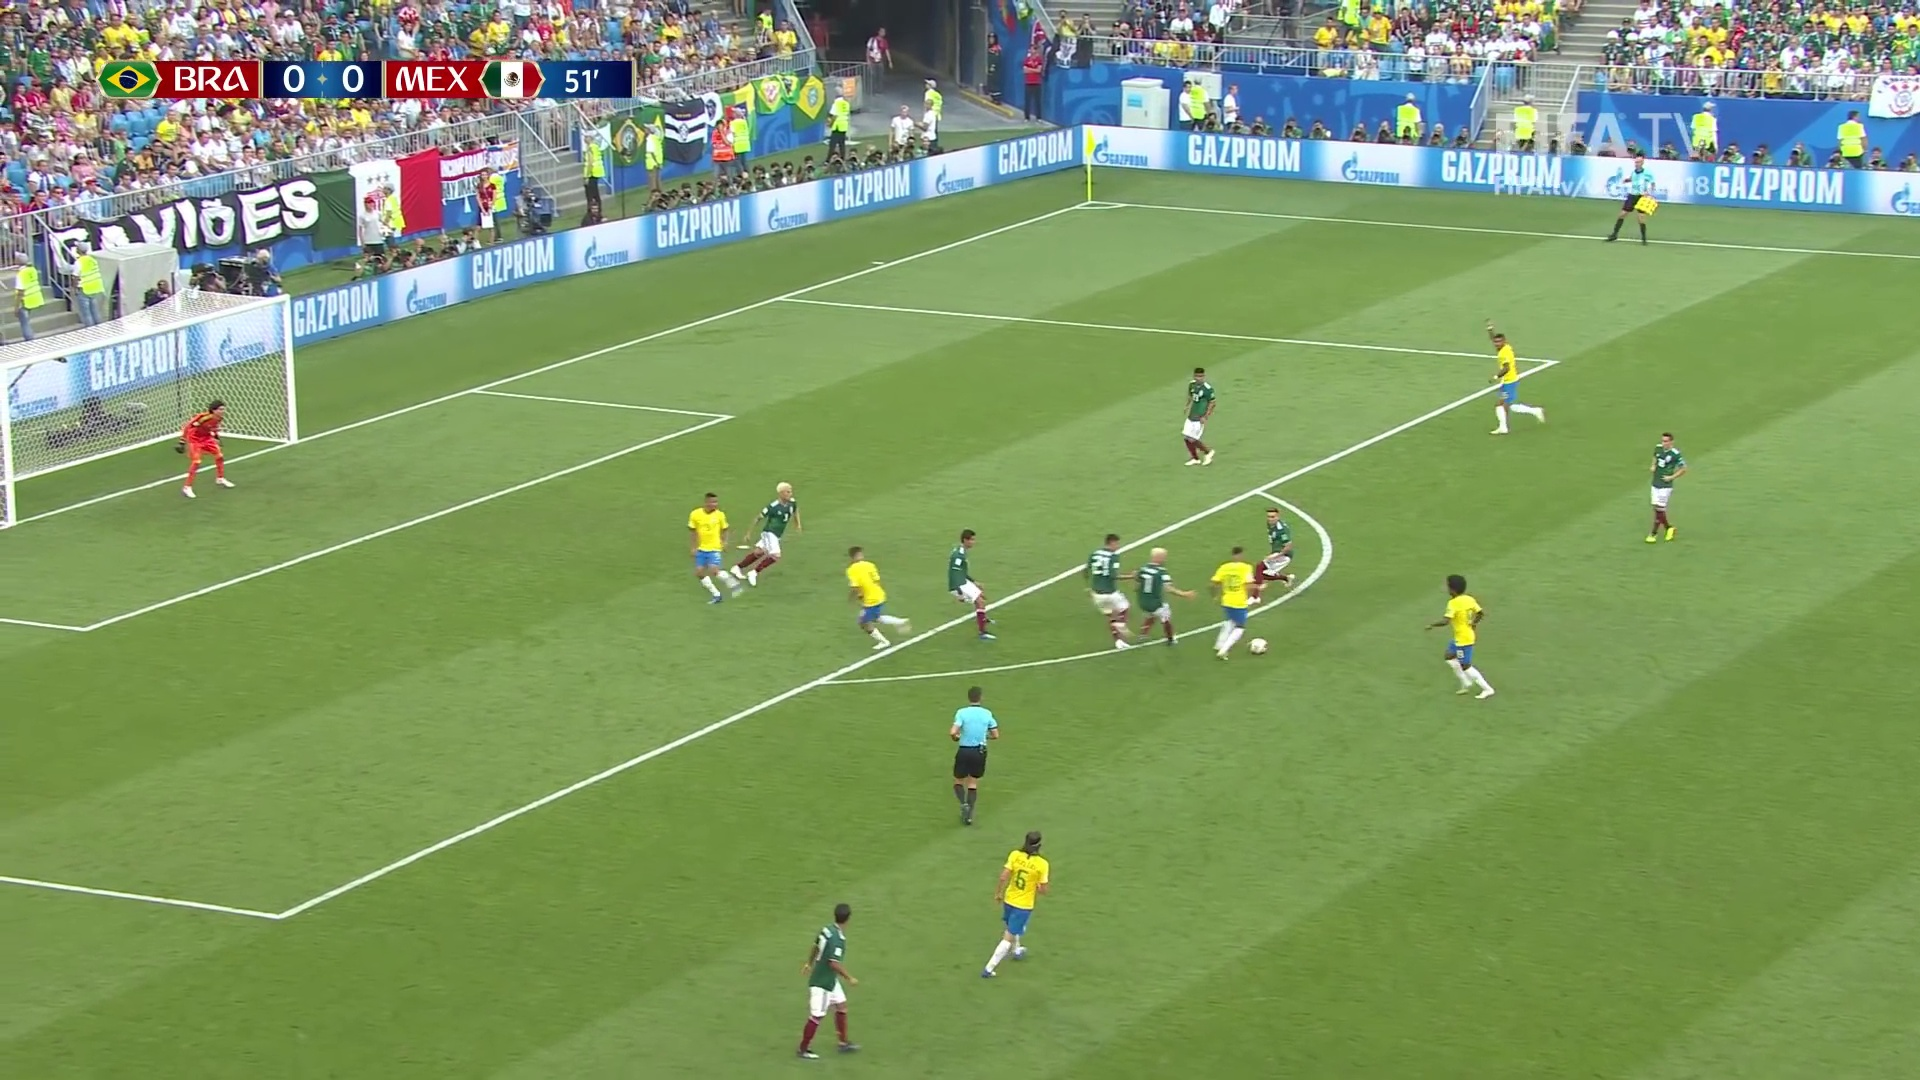ball: (1249, 639, 1267, 653)
person: (986, 831, 1054, 975), (799, 904, 859, 1057), (1431, 575, 1493, 697), (1483, 320, 1543, 437), (846, 547, 911, 650), (738, 481, 799, 588), (689, 492, 738, 604), (1086, 535, 1136, 649), (947, 530, 996, 641), (1130, 549, 1185, 645), (180, 401, 232, 496), (1209, 548, 1247, 658), (1646, 433, 1679, 541), (1255, 510, 1294, 603), (1181, 367, 1216, 465)
